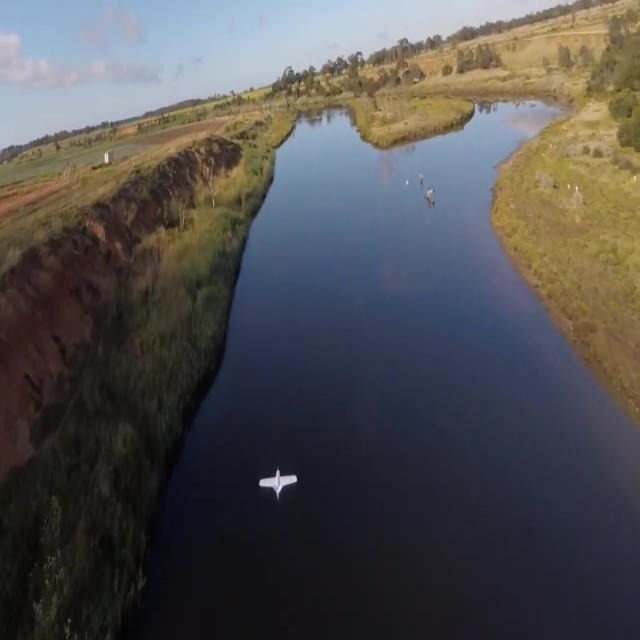iha: (258, 468, 297, 500)
